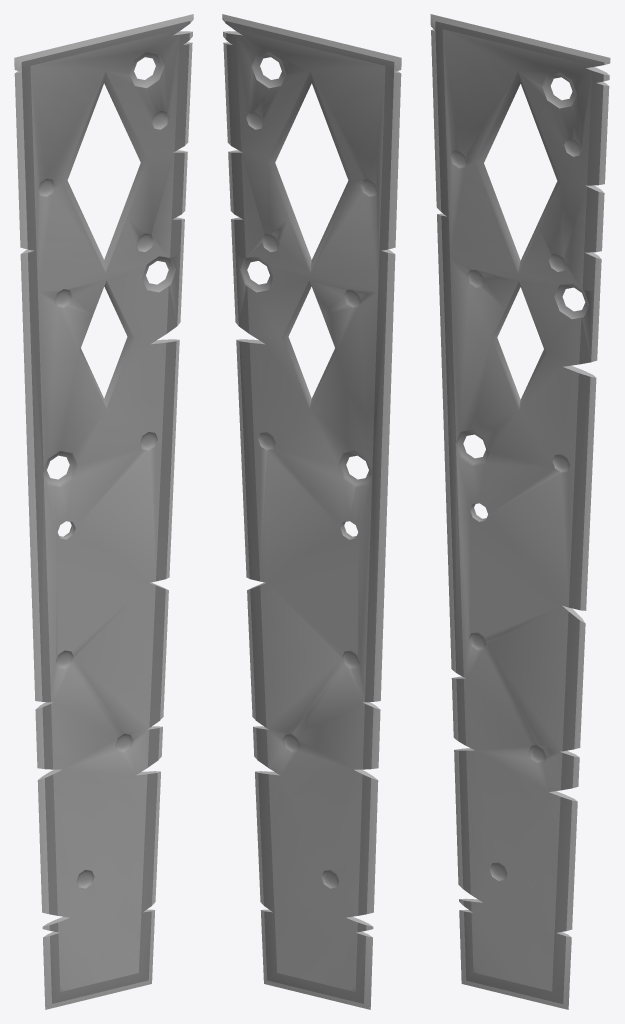
Rendered from stone_blade_bubbles_061.glb.
The picture shows the model from 3 angles, left to right: view 1: azimuth 30°, elevation 25°; view 2: azimuth 150°, elevation 25°; view 3: azimuth 330°, elevation 25°; orthographic projection.
Visible parts, largest first — view 1: stone_blade_bubbles.061; view 2: stone_blade_bubbles.061; view 3: stone_blade_bubbles.061.
Boxes of the visible parts, <box> form: stone_blade_bubbles.061: <box>14,14,193,1009</box>; stone_blade_bubbles.061: <box>222,14,401,1009</box>; stone_blade_bubbles.061: <box>430,14,610,1009</box>.
Size of the model in its own units: 2.19 by 11.21 by 0.0882.
Materials: 1 (1 with a texture image).
